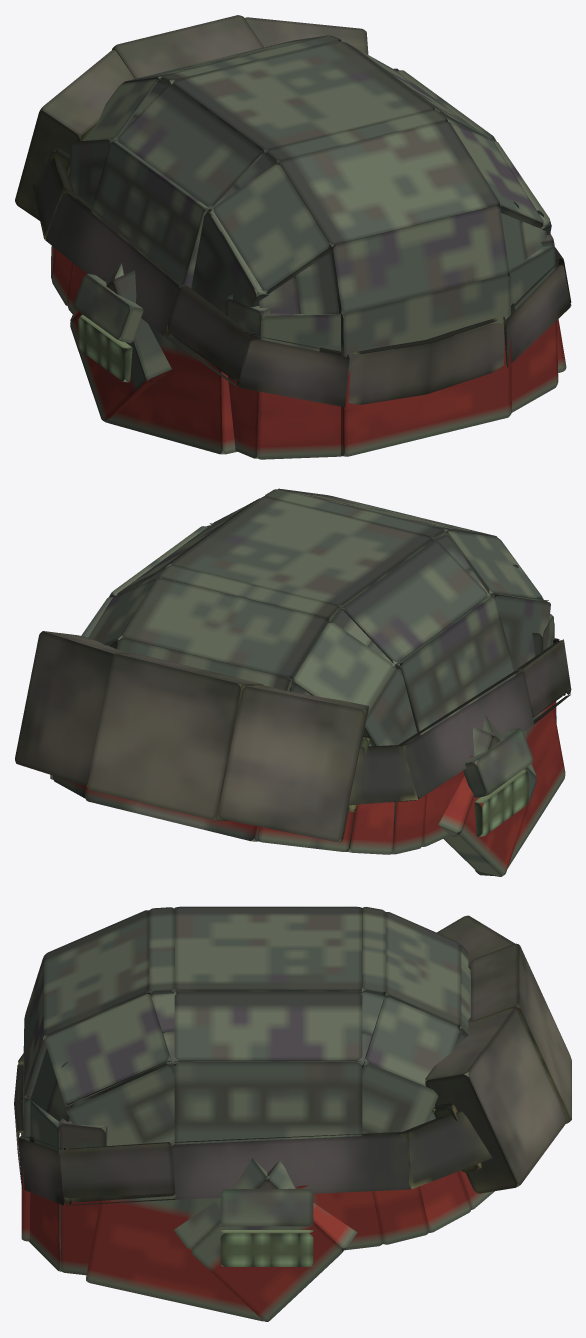
File: ratnik_mobilized_h.obj
3 renders of one model, top to bottom at view 1: azimuth 30°, elevation 25°; view 2: azimuth 150°, elevation 25°; view 3: azimuth 270°, elevation 25°, orthographic.
Visible parts, largest first — view 1: cuboid; view 2: cuboid; view 3: cuboid.
Part boxes in pixels (x1,y1,x2,y2): cuboid: [15, 15, 571, 459]; cuboid: [15, 488, 571, 876]; cuboid: [14, 906, 571, 1321].
Bounding box in the file's own units: 0.8065 × 0.521 × 0.9393.
